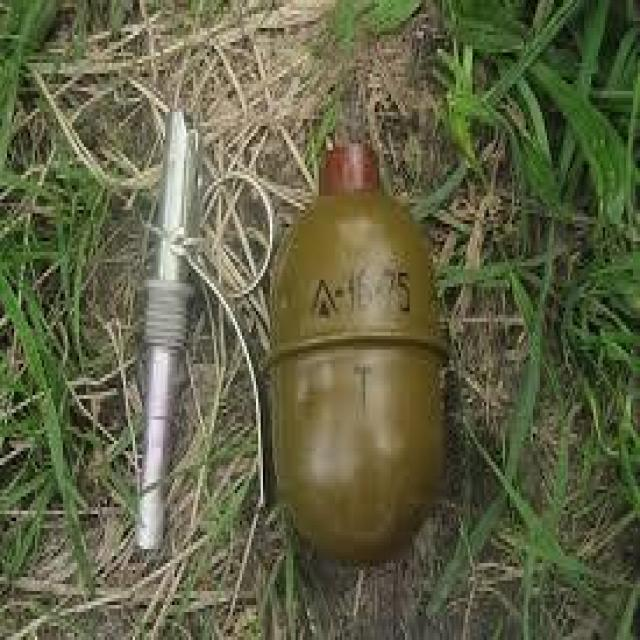grenade: (247, 133, 449, 549)
